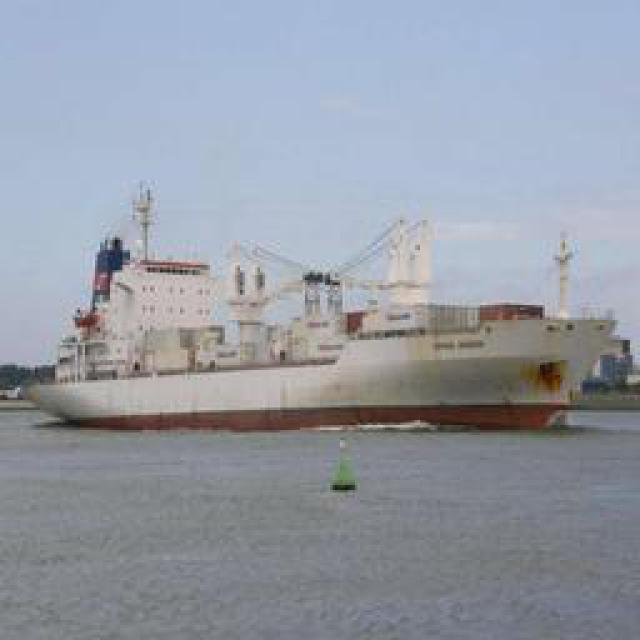Ship: (28, 199, 613, 439)
